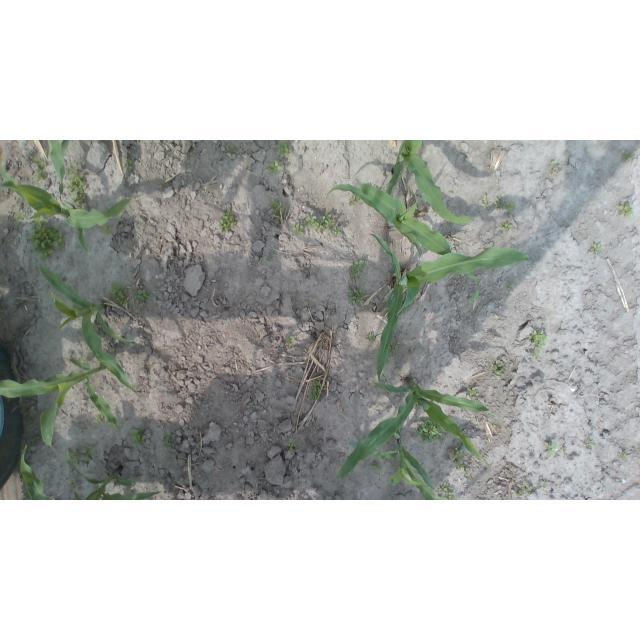Maize: (370, 230, 532, 394), (326, 178, 482, 313), (337, 374, 502, 478), (37, 264, 140, 394), (1, 356, 120, 461), (0, 164, 132, 253), (20, 444, 163, 501), (385, 140, 475, 226), (348, 429, 443, 500), (48, 141, 72, 210)
Weeds: (26, 216, 65, 258), (66, 164, 89, 209), (415, 416, 445, 445), (304, 212, 334, 228), (68, 446, 94, 464), (346, 285, 367, 305), (32, 158, 48, 183), (219, 208, 236, 231), (111, 283, 128, 305), (452, 442, 465, 470), (527, 329, 547, 347), (269, 200, 284, 223), (348, 260, 366, 278), (129, 428, 148, 445), (436, 485, 456, 500), (492, 360, 509, 377), (276, 140, 292, 158), (308, 380, 321, 401), (493, 200, 514, 213), (136, 287, 153, 301), (267, 159, 284, 173), (618, 202, 633, 217), (368, 459, 384, 473), (544, 440, 557, 456), (163, 432, 174, 449), (388, 344, 401, 357), (291, 223, 305, 235), (15, 210, 26, 222), (623, 151, 634, 162), (30, 435, 42, 445), (348, 194, 360, 204), (500, 221, 512, 231), (533, 348, 542, 361), (285, 336, 296, 346), (125, 157, 134, 169), (522, 481, 531, 493), (96, 411, 104, 424), (464, 468, 473, 479), (266, 250, 275, 261), (68, 480, 77, 491), (331, 227, 344, 234), (551, 159, 560, 169), (103, 224, 112, 234), (585, 438, 595, 447), (226, 146, 237, 154), (288, 440, 295, 452), (592, 244, 601, 253), (620, 451, 629, 460), (128, 475, 136, 485), (466, 388, 476, 396), (482, 197, 489, 207), (368, 333, 376, 341), (506, 284, 514, 292), (390, 332, 396, 342), (469, 293, 476, 301), (517, 489, 523, 497), (540, 483, 549, 488), (384, 358, 388, 367), (563, 446, 568, 452)
